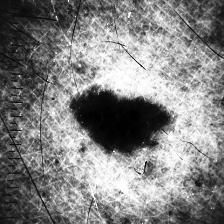Benign Marking or Mole: (79, 86, 171, 152)
